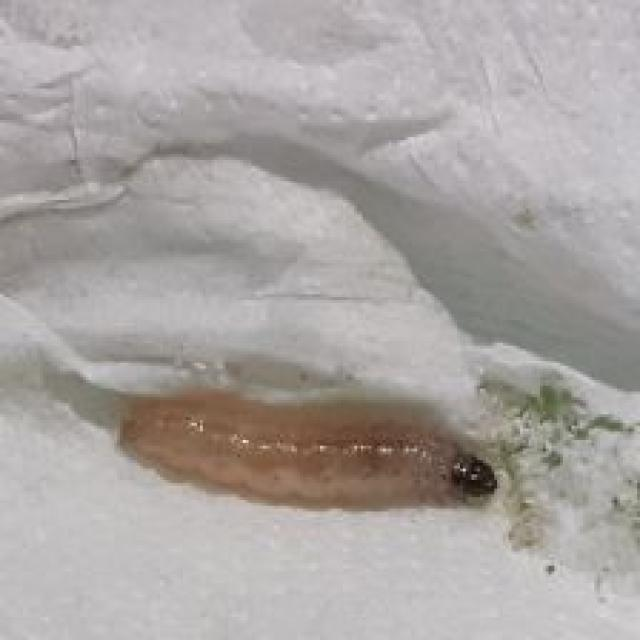white mucus: (106, 373, 498, 545)
